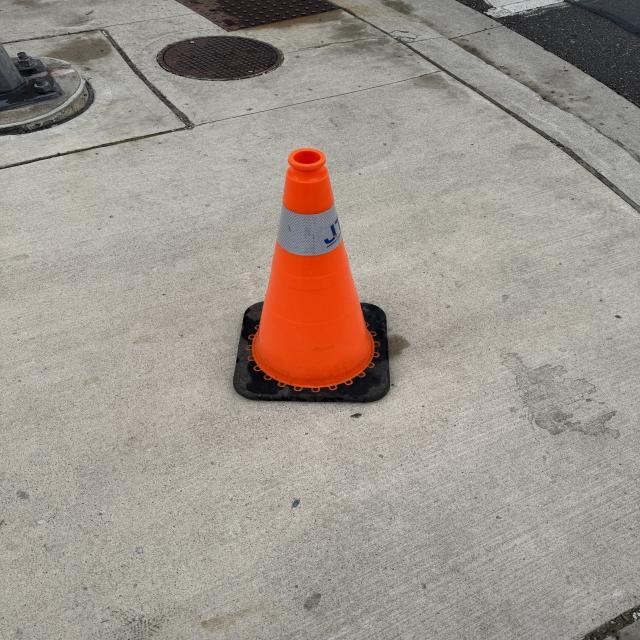Traffic Cone: (233, 147, 391, 401)
